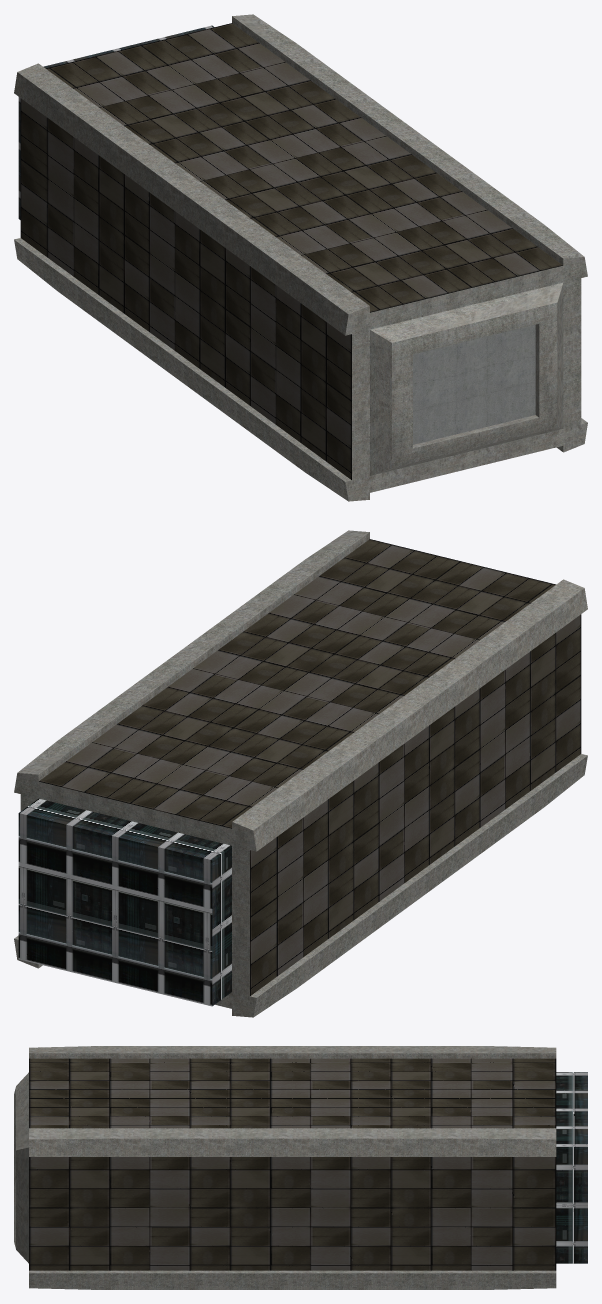
Rendered from skyscraper_windowH_02.obj.
3 views of the same model, one above another, from view 1: azimuth 30°, elevation 25°; view 2: azimuth 150°, elevation 25°; view 3: azimuth 270°, elevation 25° (orthographic). The views are drawn at different scales.
Parts seen in each view (by area): view 1: Object23; view 2: Object23; view 3: Object23.
Part boxes in pixels (x1,y1,x2,y2): Object23: (14,14,587,501); Object23: (14,530,587,1017); Object23: (14,1046,587,1289).
Size of the model in its own units: 42.29 by 32.29 by 109.
4 materials, 4 textured.
